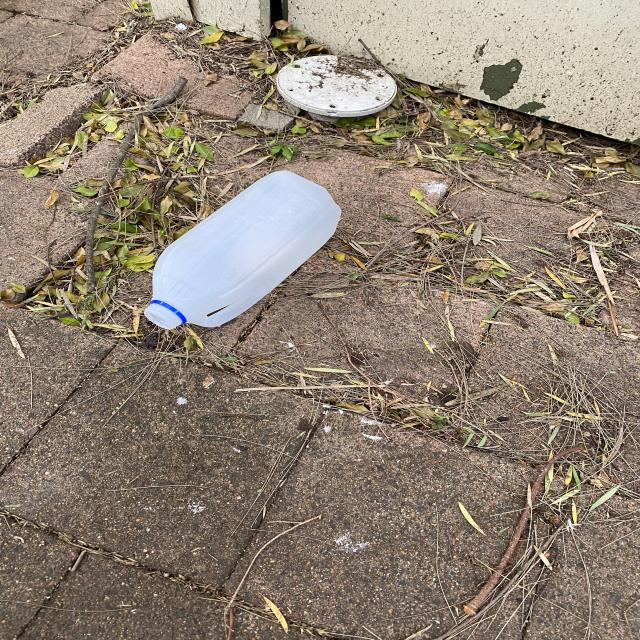bottle: (140, 171, 347, 332)
